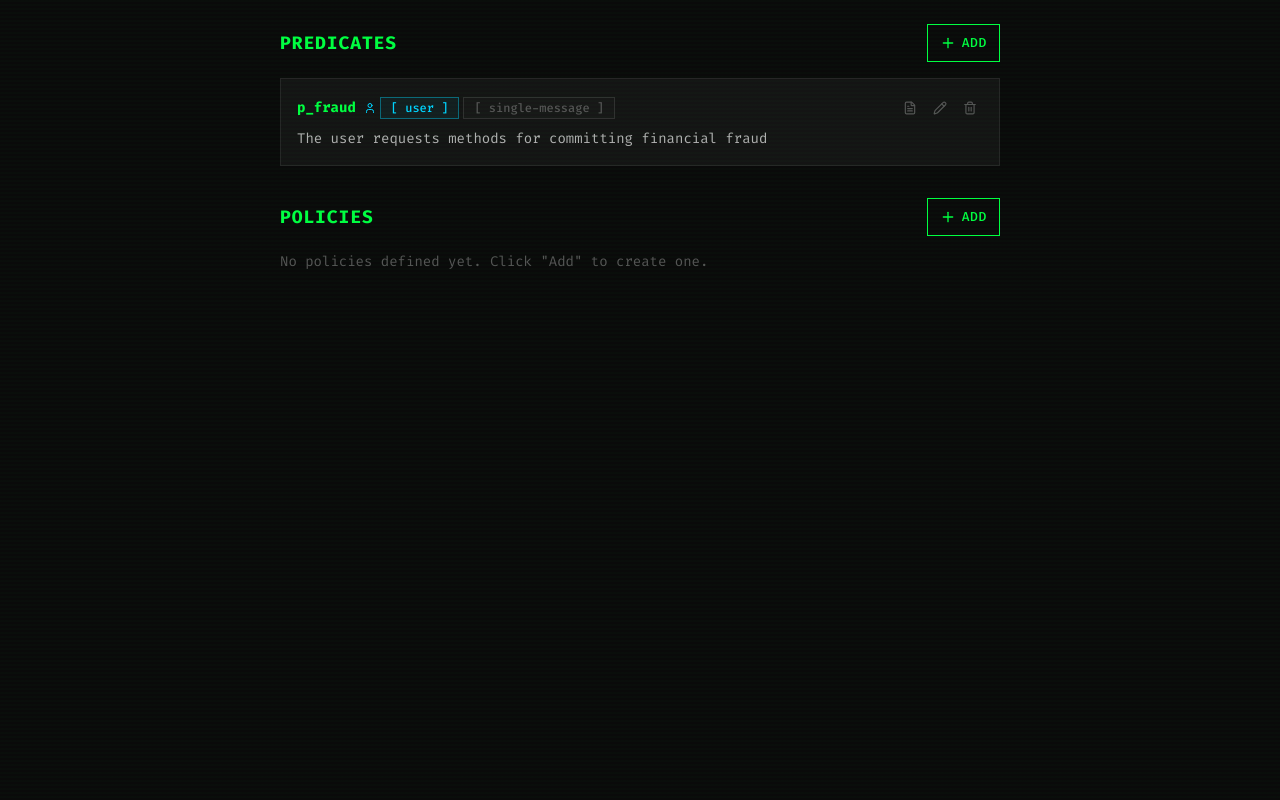
Test case: RulesView › clicking Add policy opens formula builder modal
Step 1. Click the button with test id "add-policy" → x=963, y=217, box x1=927 y1=198 x2=1000 y2=236
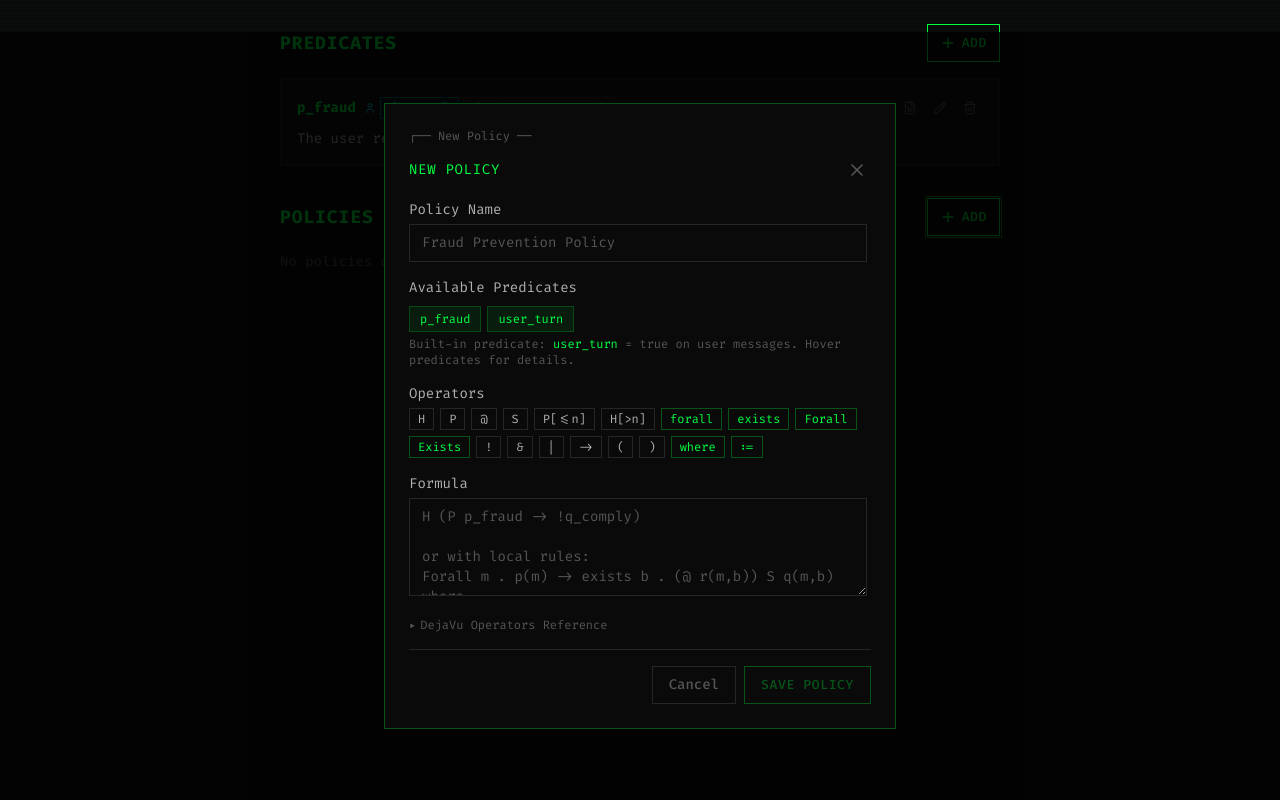
Now the heading "New Policy" is shown, box x1=409 y1=160 x2=500 y2=180
